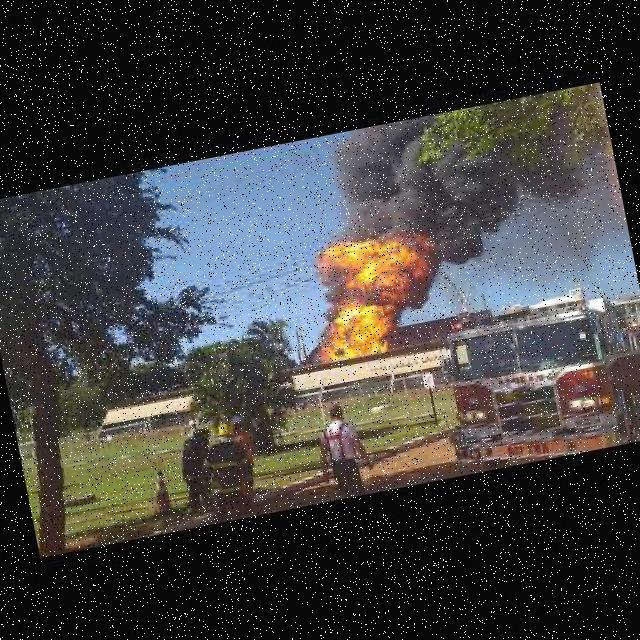Fire: (294, 212, 452, 364)
Smoke: (314, 100, 517, 261)
